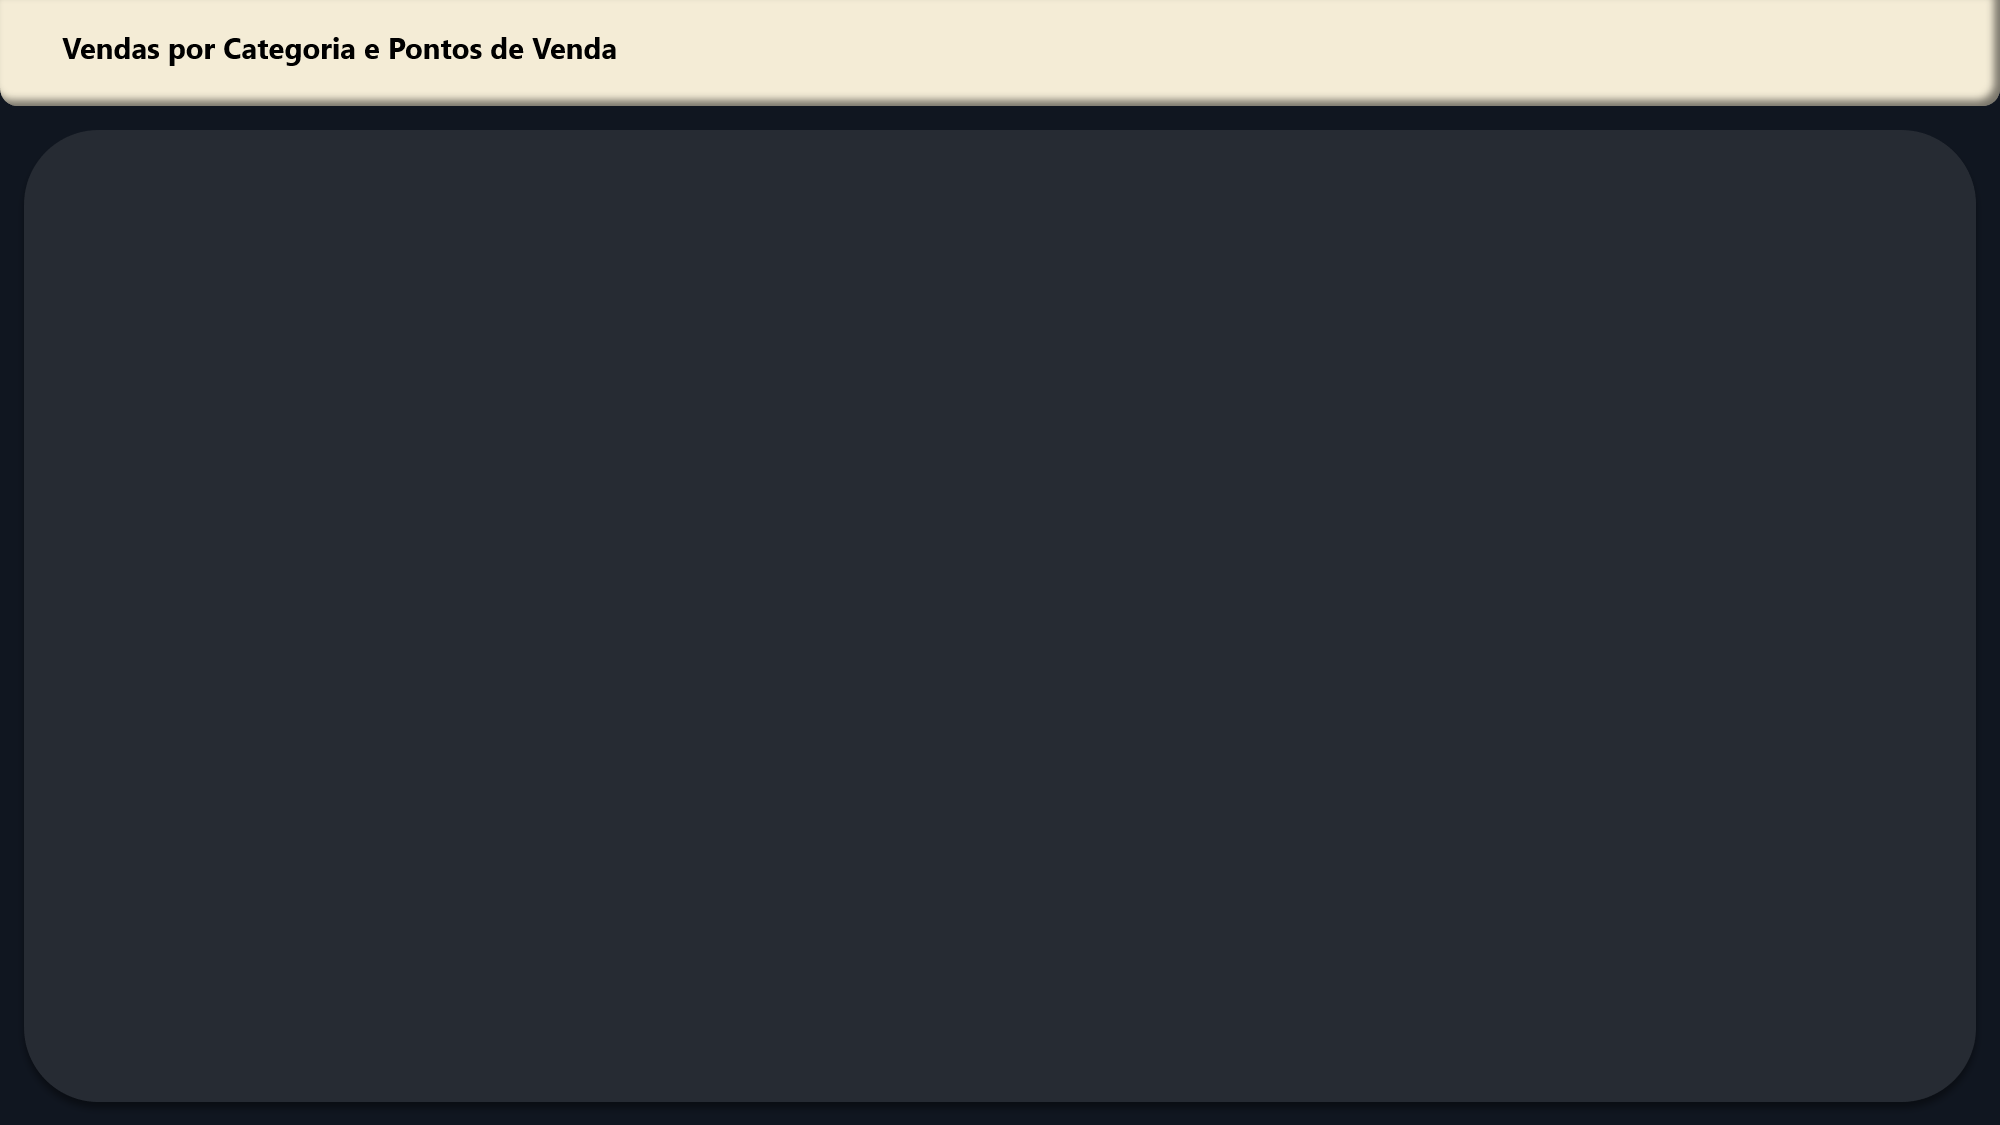

The page's visual inventory and layout, read from the dashboard file:
{"tool":"powerbi","page":{"name":"Faixas de Venda por Categoria e Pontos de Venda","canvas":[1280,720],"ordinal":3},"visuals":[{"type":"ribbonChart","fields":{"Category":["Vendas.Categoria"],"Series":["Vendas.Loja"],"Y":["Sum(Vendas.ValorVenda)"]},"box":[16.8,104.1,1247.4,603.4],"z":0}]}

Visuals, with their boxes on the page's 1280x720 design canvas (x1, y1, x2, y2). These are canvas units, not pixel positions in the 2000x1125 screenshot, which may show the page scaled, cropped or inside an application window:
ribbonChart - Vendas.Categoria x Vendas.Loja: select_region(17, 104, 1264, 708)
